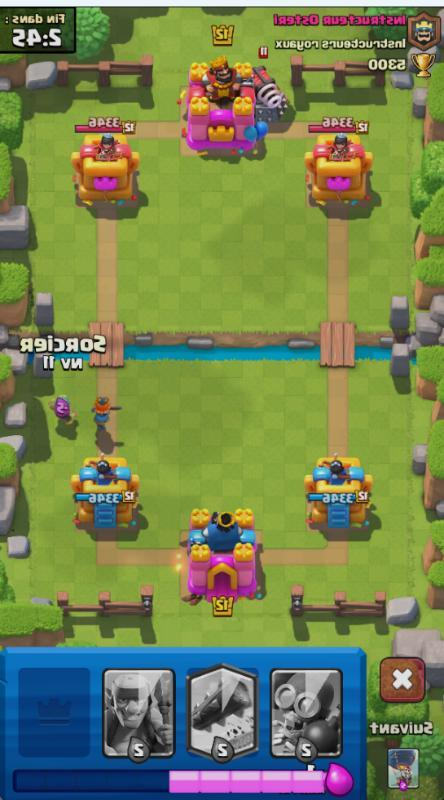enemy_sparky: (246, 44, 294, 131)
player_valkyrie: (86, 381, 126, 438)
